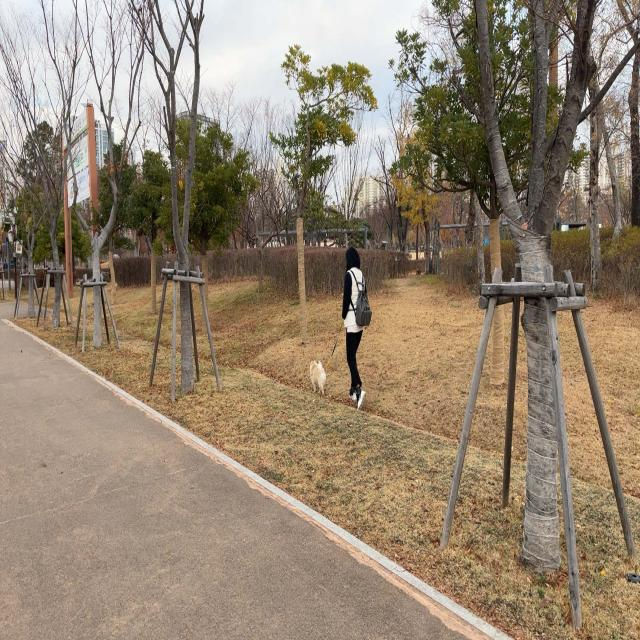Leashed_Dog: (310, 318, 352, 398)
